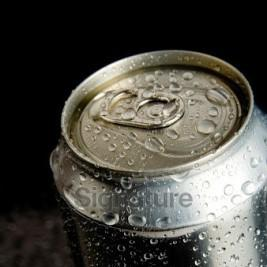beer: (47, 49, 267, 266)
